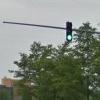Tree: (22, 33, 93, 100)
